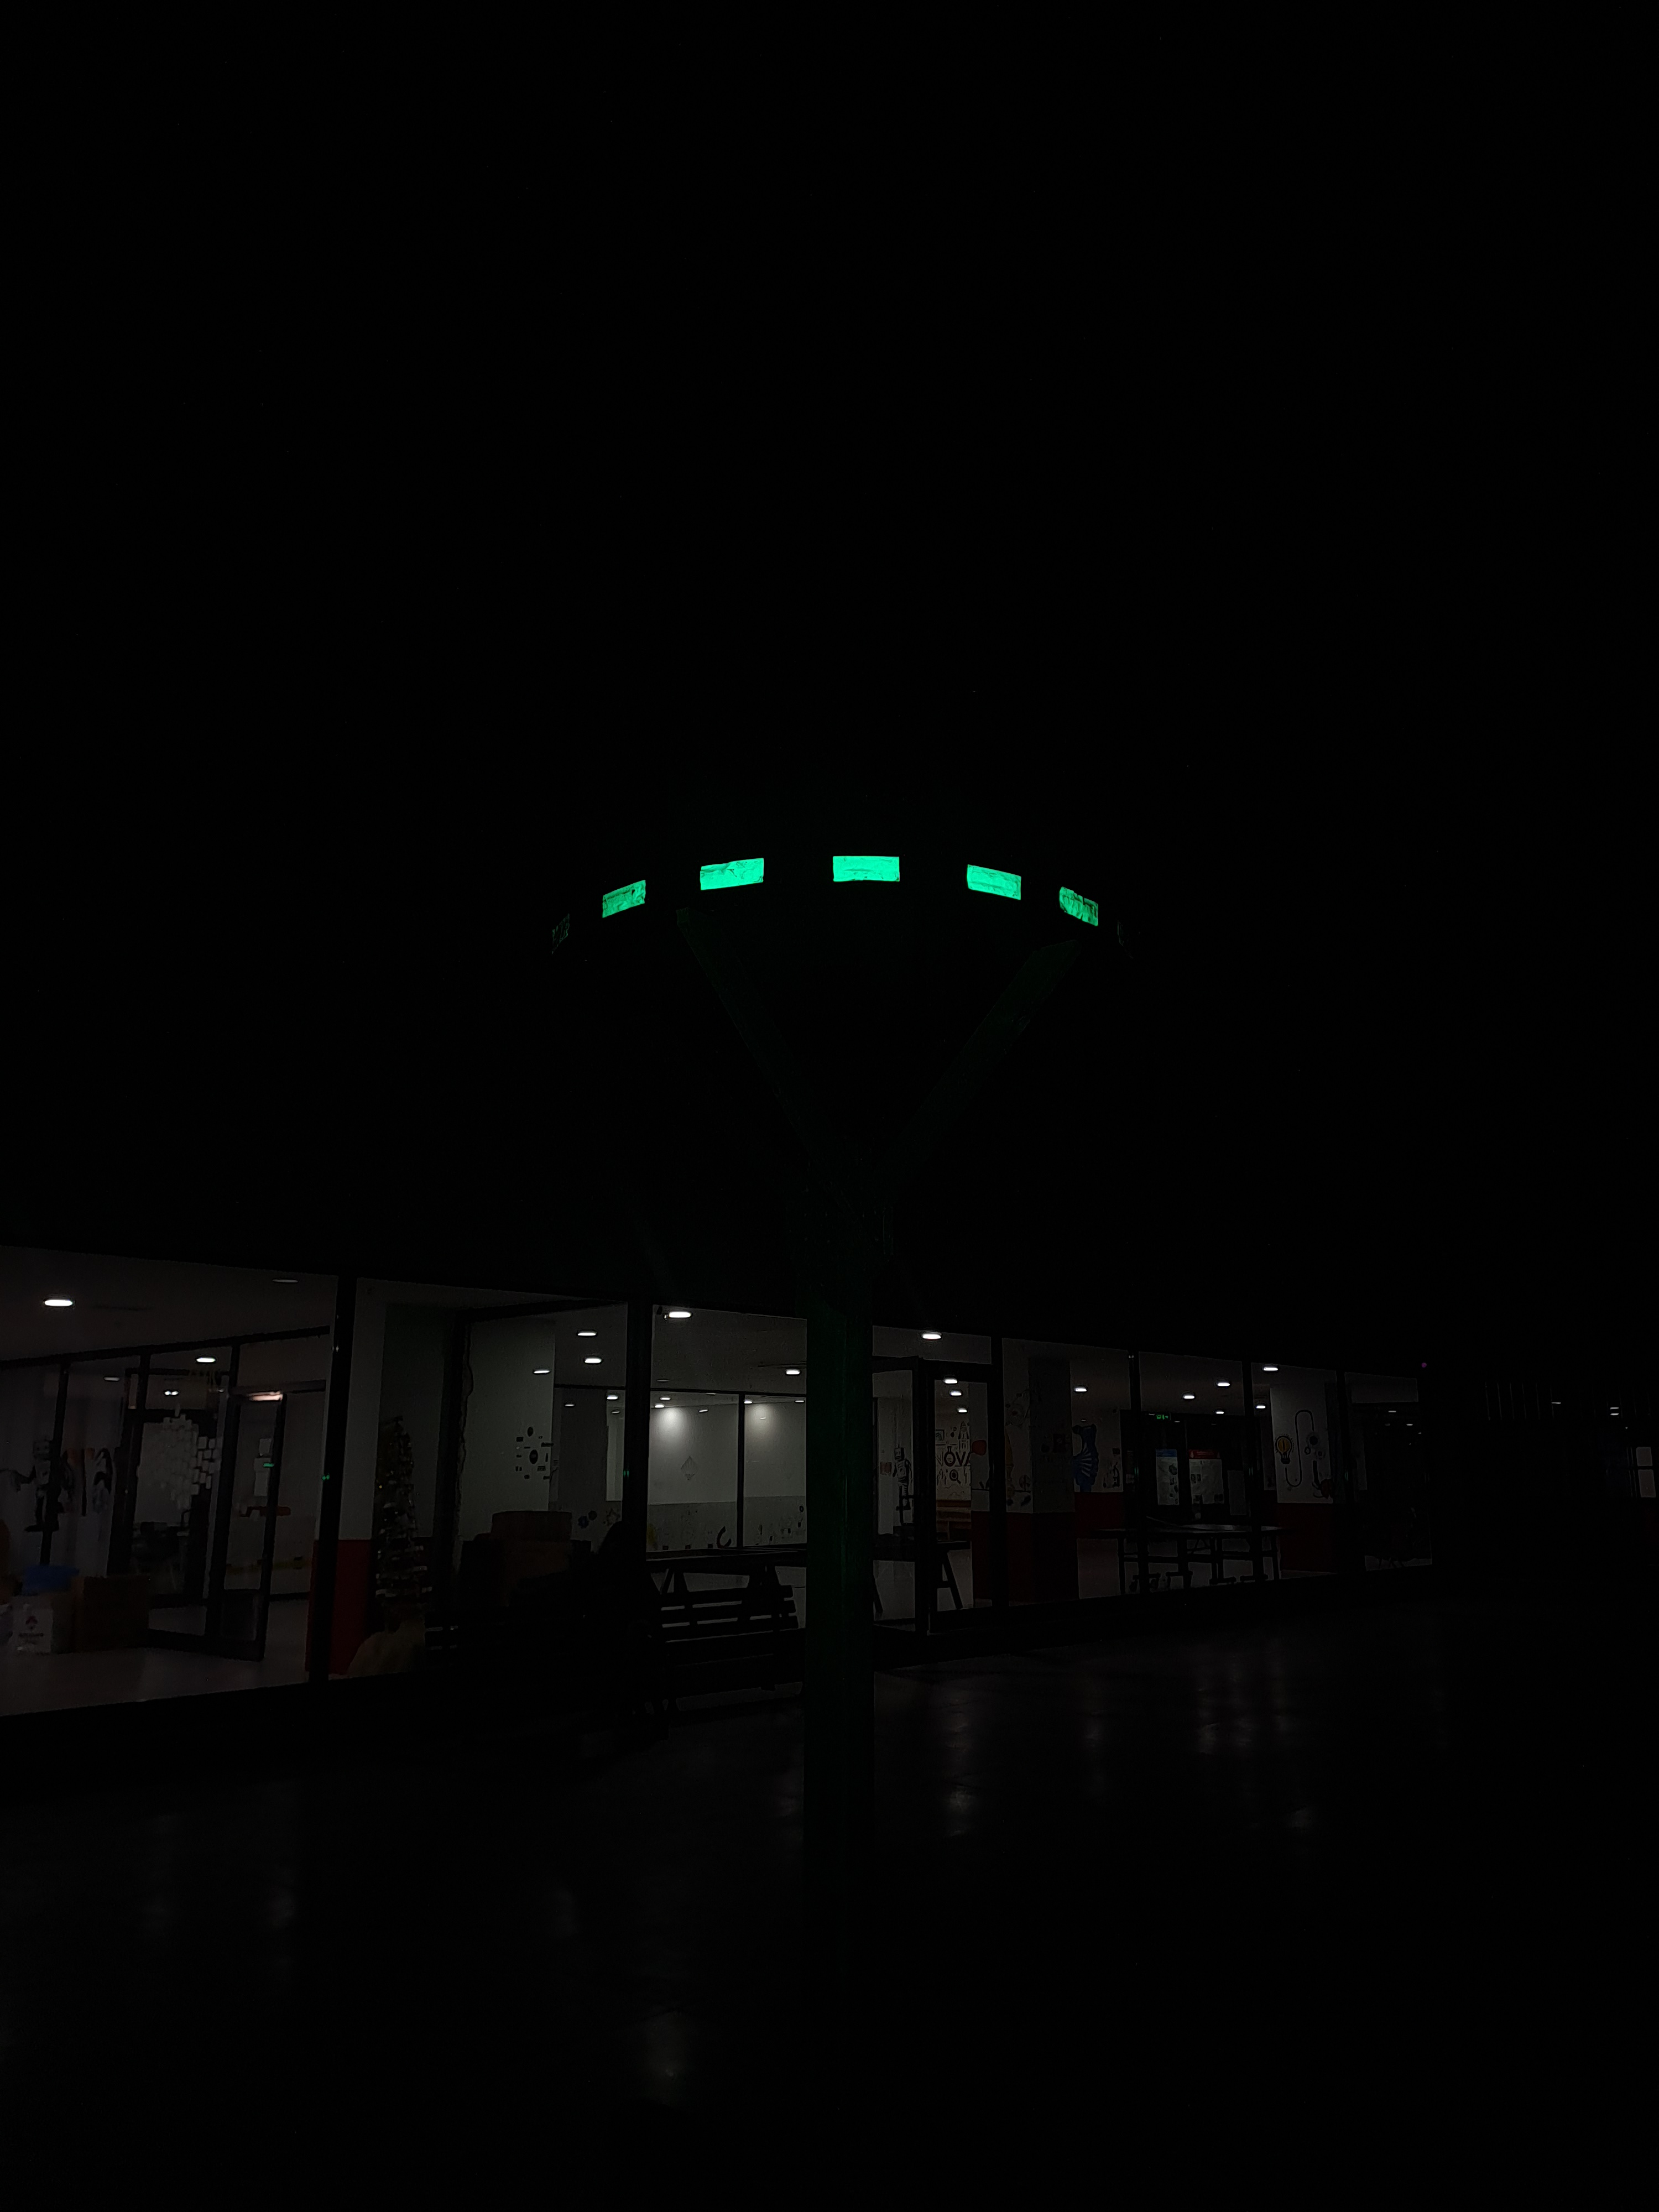hoop: (592, 852, 1103, 939)
